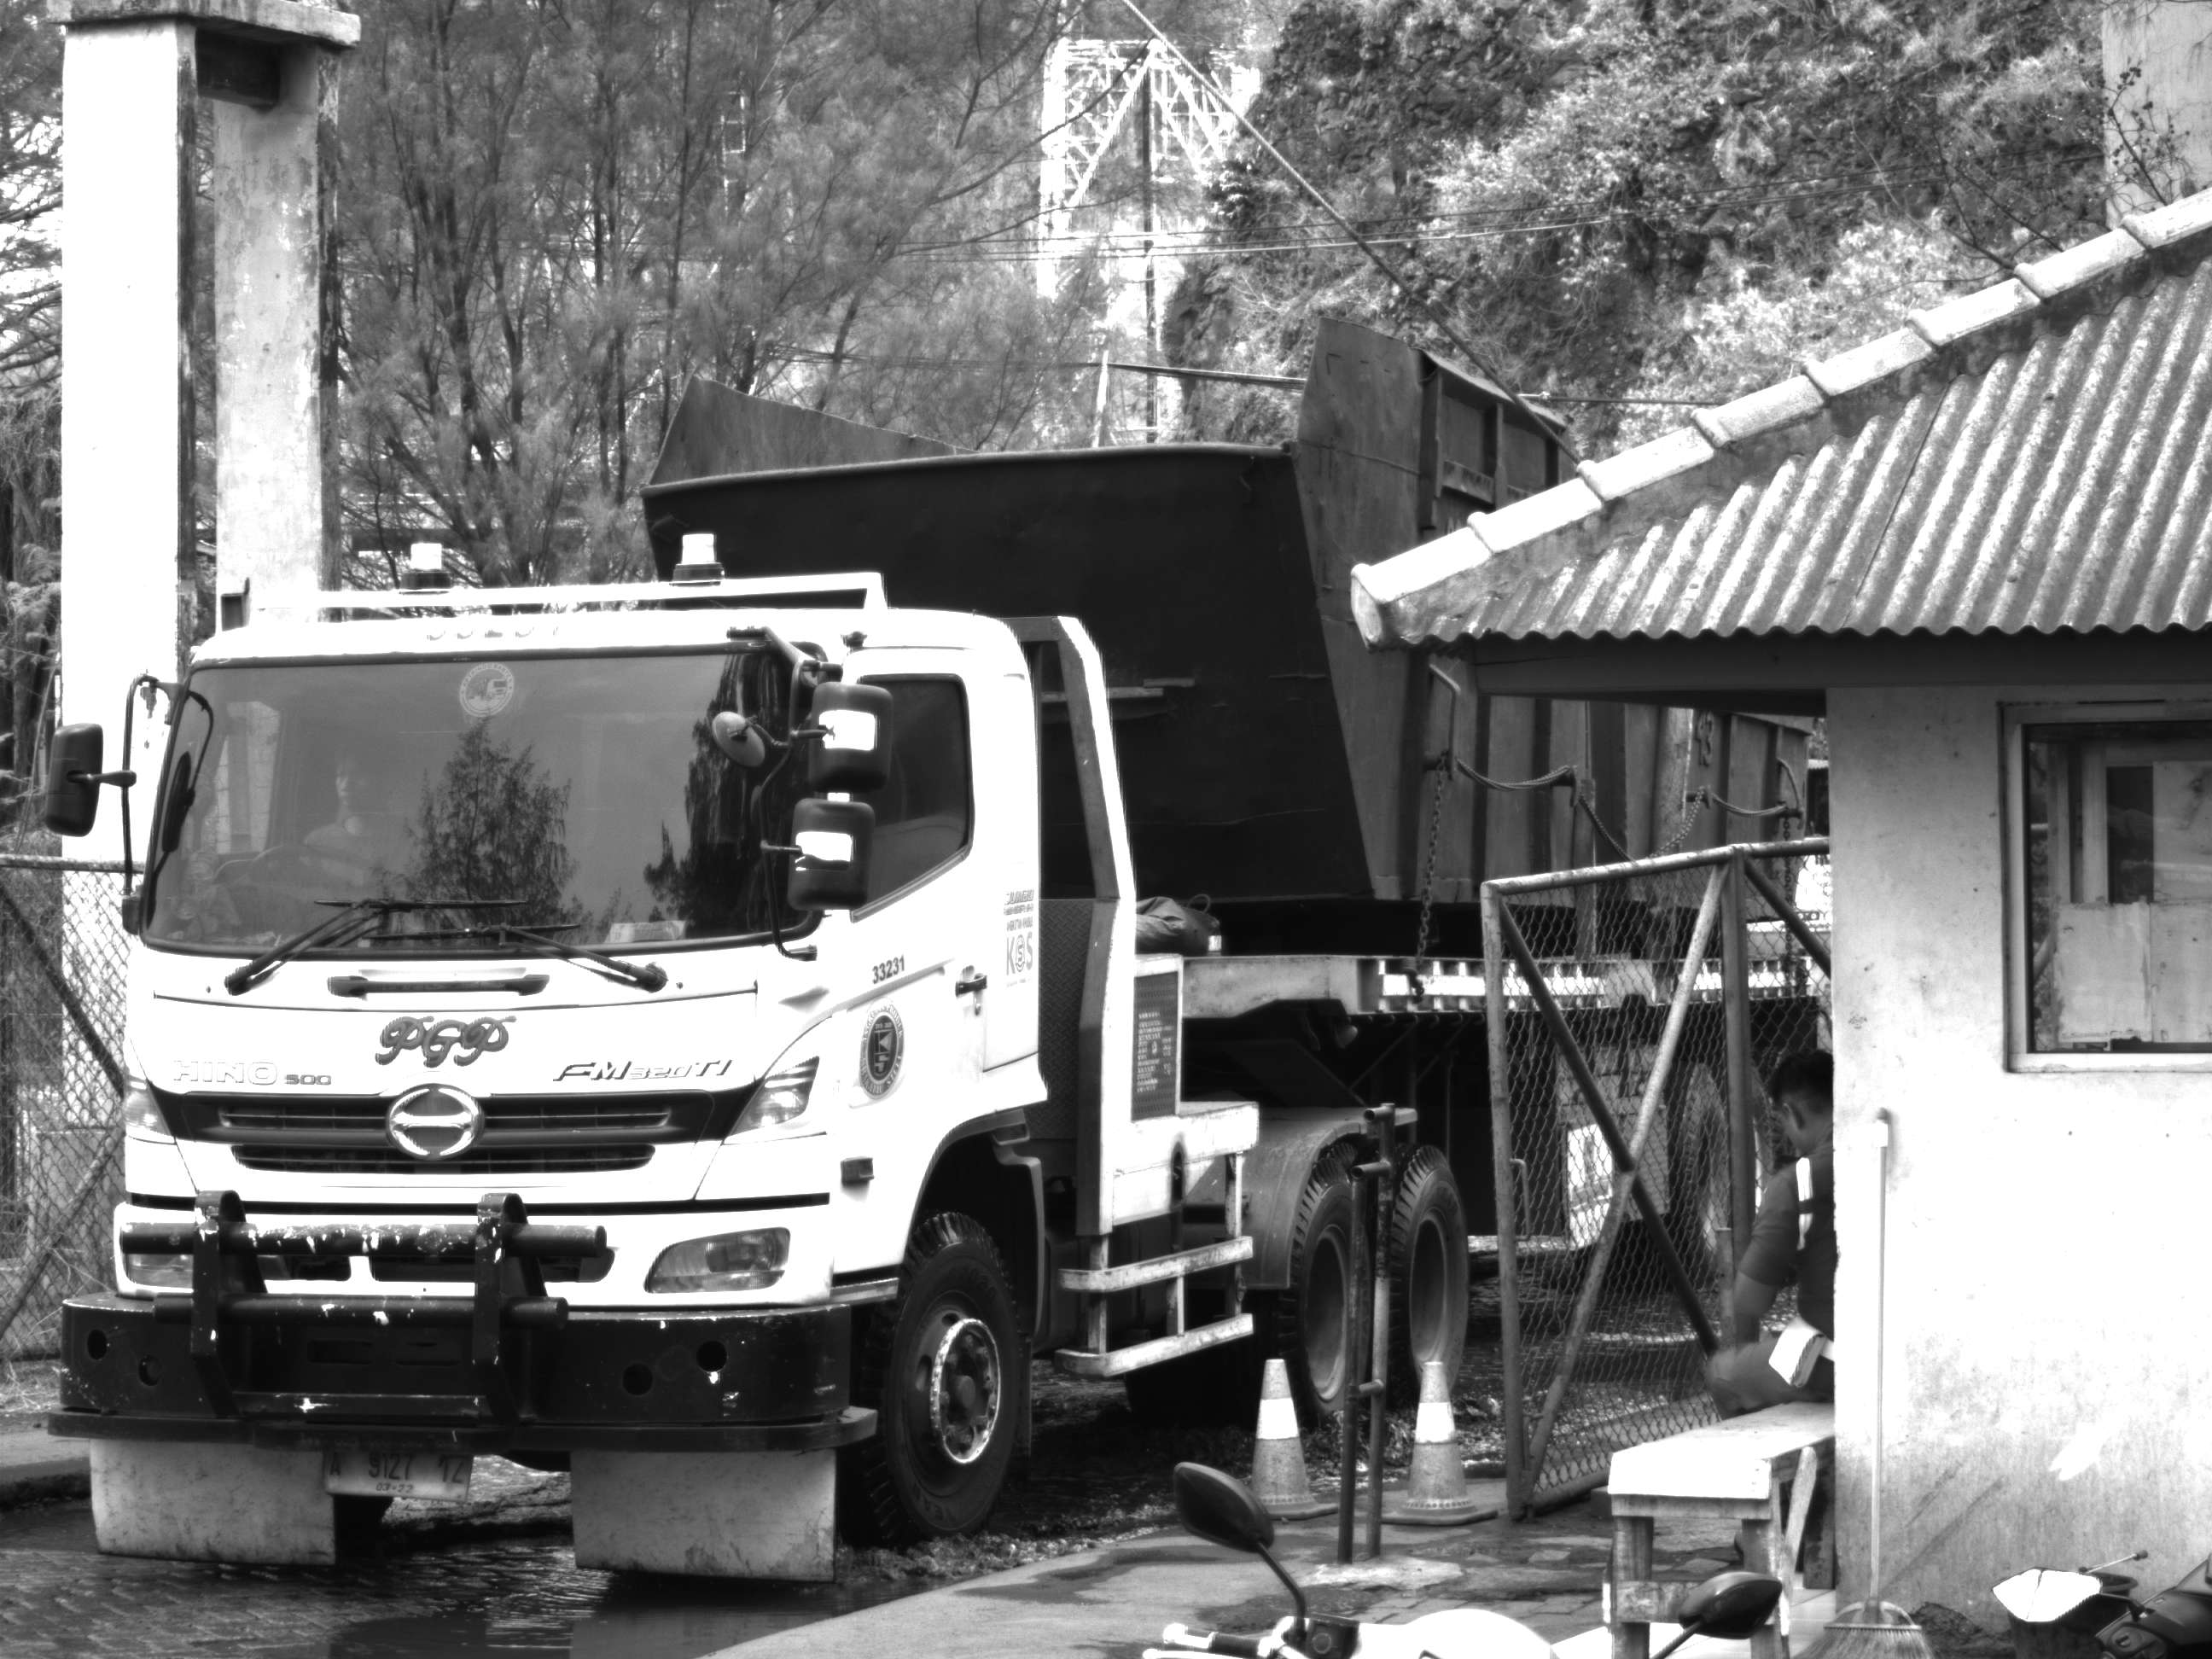day_truck_front: (35, 465, 1085, 1610)
plate: (320, 1448, 497, 1508)
